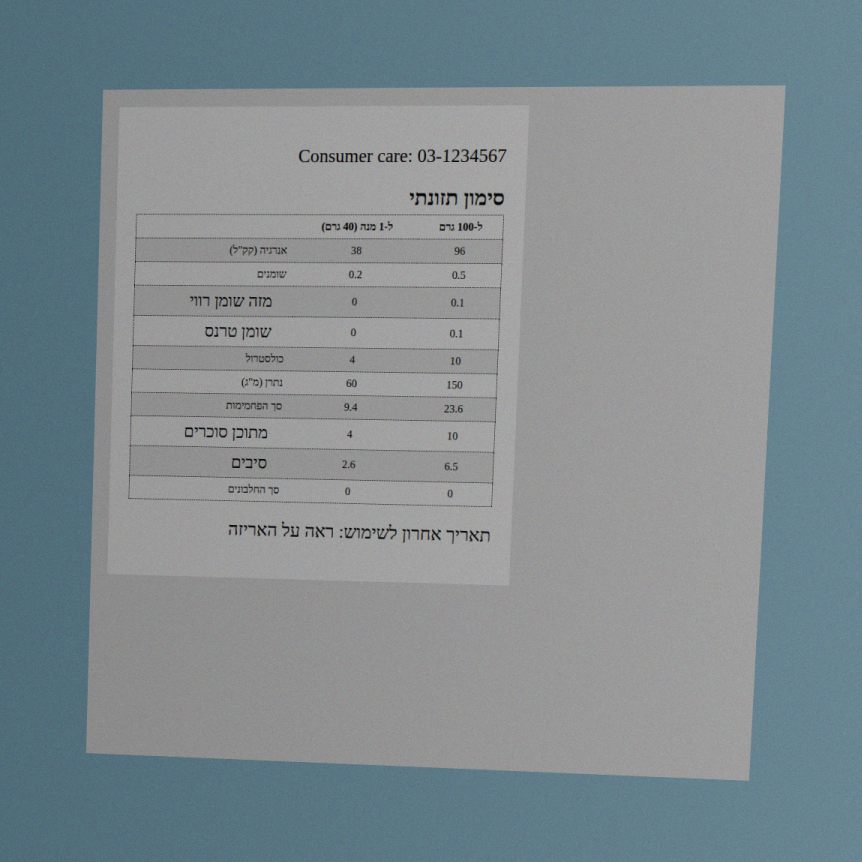carbs: (442, 401, 465, 416)
energy: (453, 244, 467, 258)
fat: (450, 268, 467, 282)
protein: (446, 486, 454, 501)
